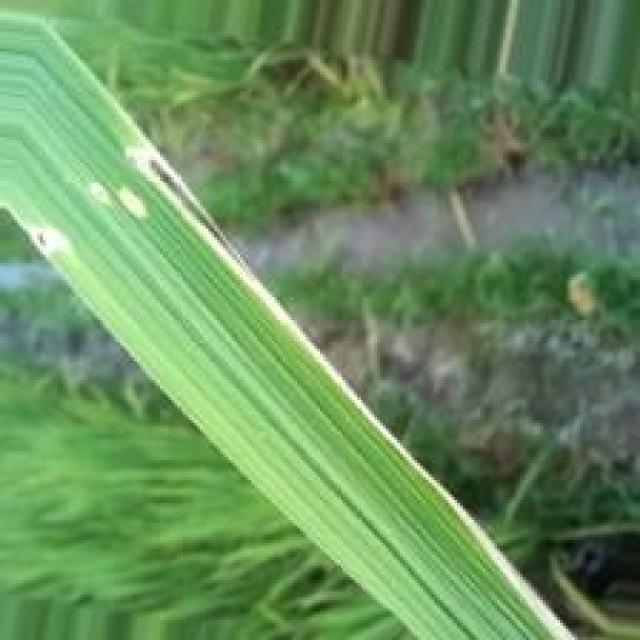Rice_Hispa: (117, 139, 434, 484), (445, 495, 577, 640), (27, 228, 66, 252)
